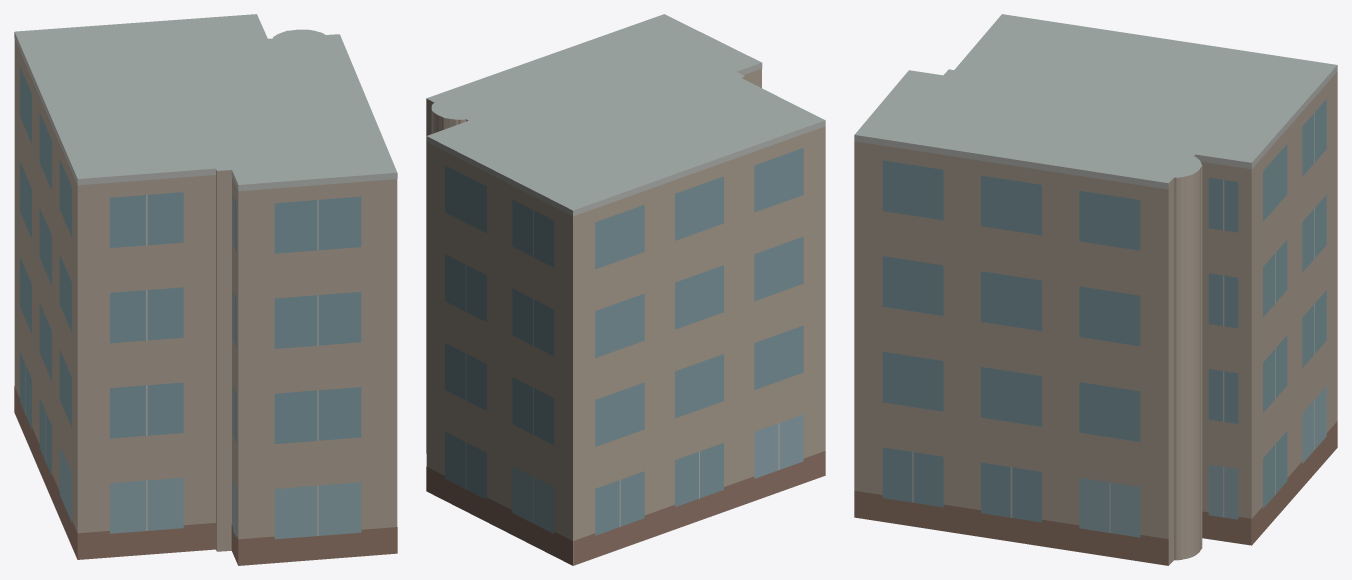
Rendered from survey-upis-32527661.glb.
3 views of the same model, side by side, from view 1: azimuth 30°, elevation 25°; view 2: azimuth 150°, elevation 25°; view 3: azimuth 270°, elevation 25° (orthographic). The views are drawn at different scales.
Parts seen in each view (by area): view 1: survey-upis-32527661.tmp; view 2: survey-upis-32527661.tmp; view 3: survey-upis-32527661.tmp.
Part boxes in pixels (x1=…): survey-upis-32527661.tmp: x1=14, y1=14, x2=397, y2=565; survey-upis-32527661.tmp: x1=426, y1=14, x2=825, y2=565; survey-upis-32527661.tmp: x1=854, y1=14, x2=1337, y2=565.
Size of the model in its own units: 13.95 by 14.7 by 16.83.
